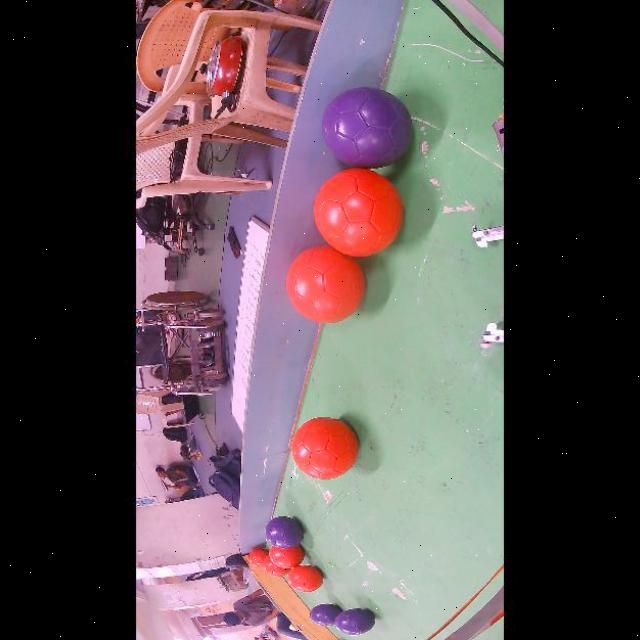P: (321, 87, 411, 168), (264, 517, 303, 548), (333, 609, 374, 635), (309, 603, 341, 626)
R: (314, 168, 402, 256), (285, 246, 364, 324), (290, 417, 358, 479), (287, 565, 322, 592), (268, 546, 303, 569), (262, 556, 290, 577), (248, 548, 268, 568)
